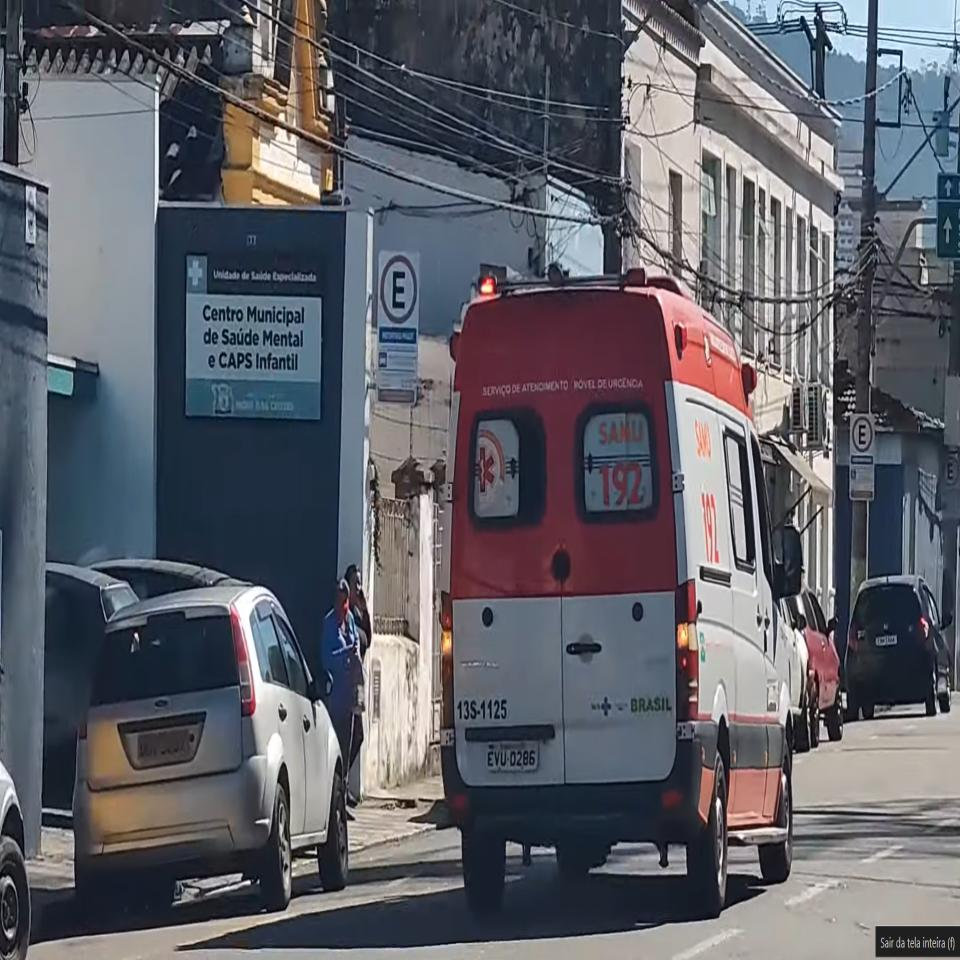bombeiro: (441, 262, 803, 912)
